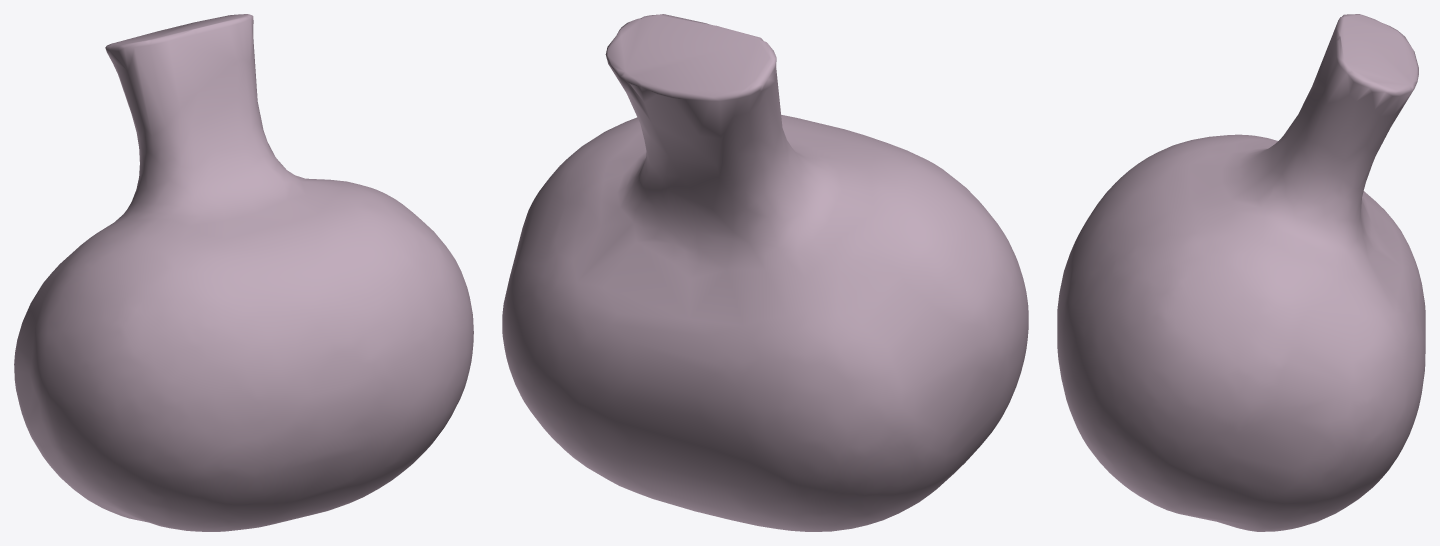
The model's file is pituitary.glb.
The picture shows the model from 3 angles, left to right: view 1: azimuth 30°, elevation 25°; view 2: azimuth 150°, elevation 25°; view 3: azimuth 270°, elevation 25°; orthographic projection. The views are drawn at different scales.
Parts seen in each view (by area): view 1: FMA13889.stl; view 2: FMA13889.stl; view 3: FMA13889.stl.
Part boxes in pixels (bbox=[...]): FMA13889.stl: bbox=[14, 14, 473, 531]; FMA13889.stl: bbox=[502, 14, 1028, 531]; FMA13889.stl: bbox=[1057, 14, 1425, 531].
Size of the model in its own units: 1.91 by 2 by 1.46.
